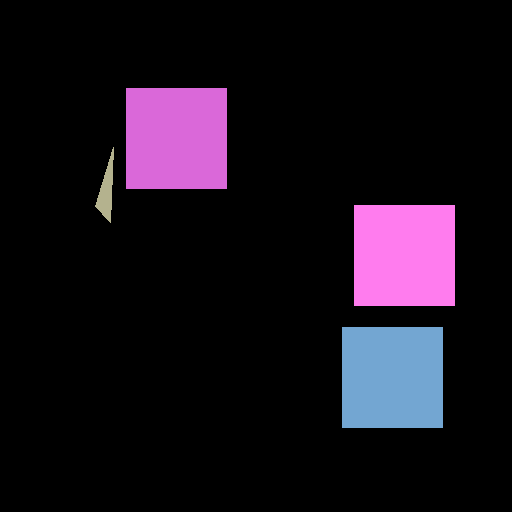square: (342, 327, 442, 427), (354, 205, 454, 305), (126, 88, 226, 188)
triangle: (95, 147, 113, 222)
